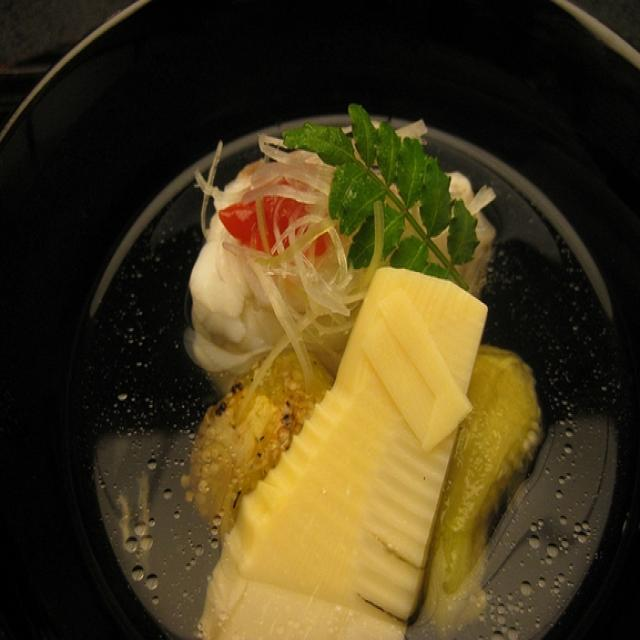汤锅炖物: (21, 28, 626, 634)
